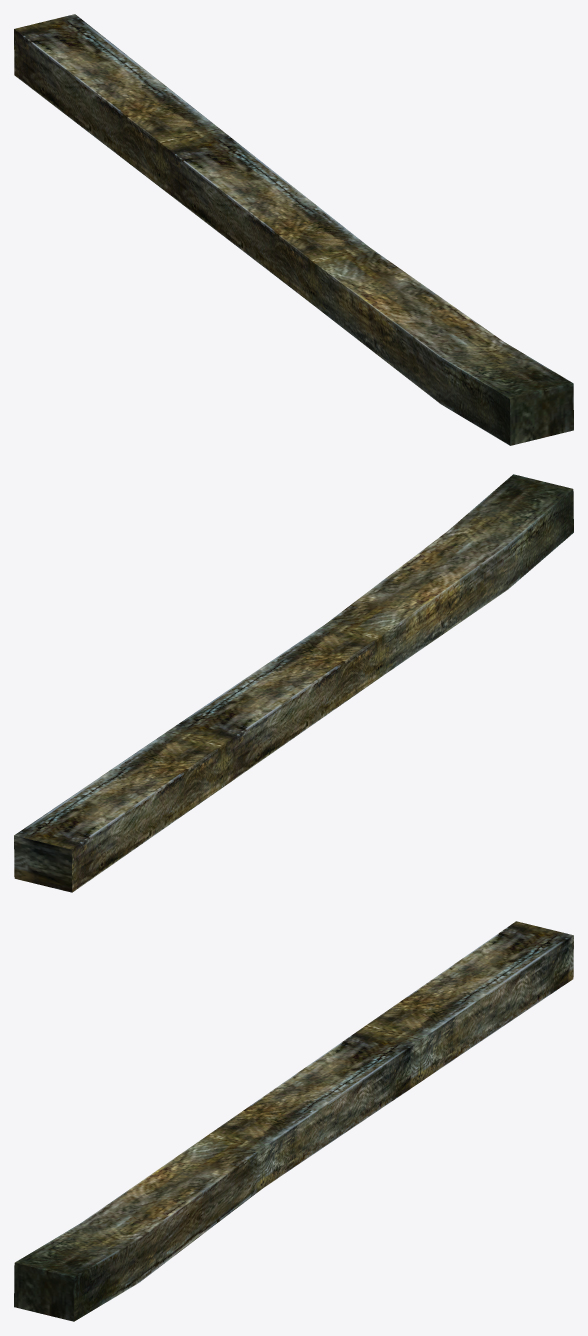
The picture shows the model from 3 angles, top to bottom: view 1: azimuth 30°, elevation 25°; view 2: azimuth 150°, elevation 25°; view 3: azimuth 330°, elevation 25°; orthographic projection. The views are drawn at different scales.
Visible parts, largest first — view 1: hr_wd1; view 2: hr_wd1; view 3: hr_wd1.
Part boxes in pixels (box(x1,y1,x2,y2)): hr_wd1: box(14, 14, 573, 445); hr_wd1: box(14, 474, 573, 892); hr_wd1: box(14, 921, 573, 1321).
Size of the model in its own units: 0.848 by 0.5776 by 9.59.
2 materials, 2 textured.
